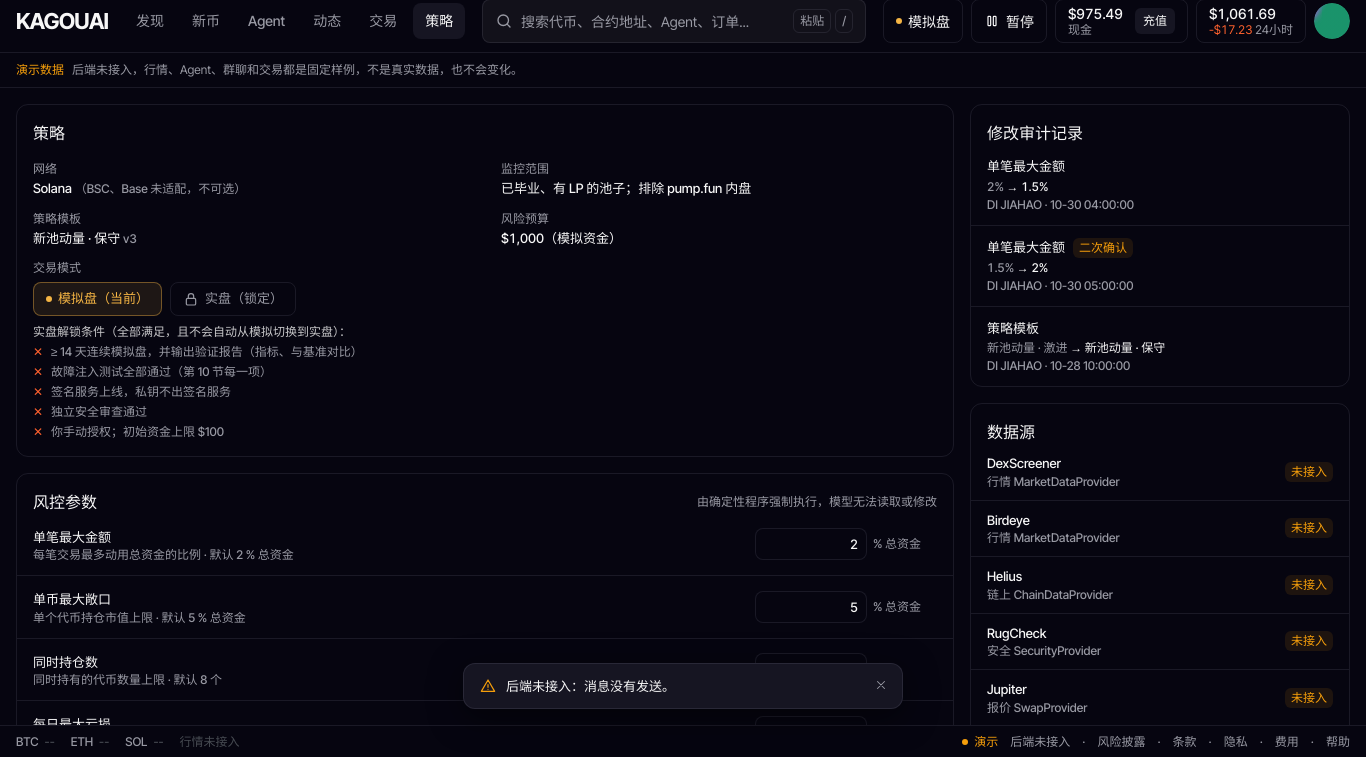
Test: 策略页风控修改 › 放宽需要二次确认，并且不假装保存成功
Replace the text in the number field labelled "单笔最大金额" with "3" at (811, 544), box left=755, top=528, right=867, bottom=560
(page scrolled)
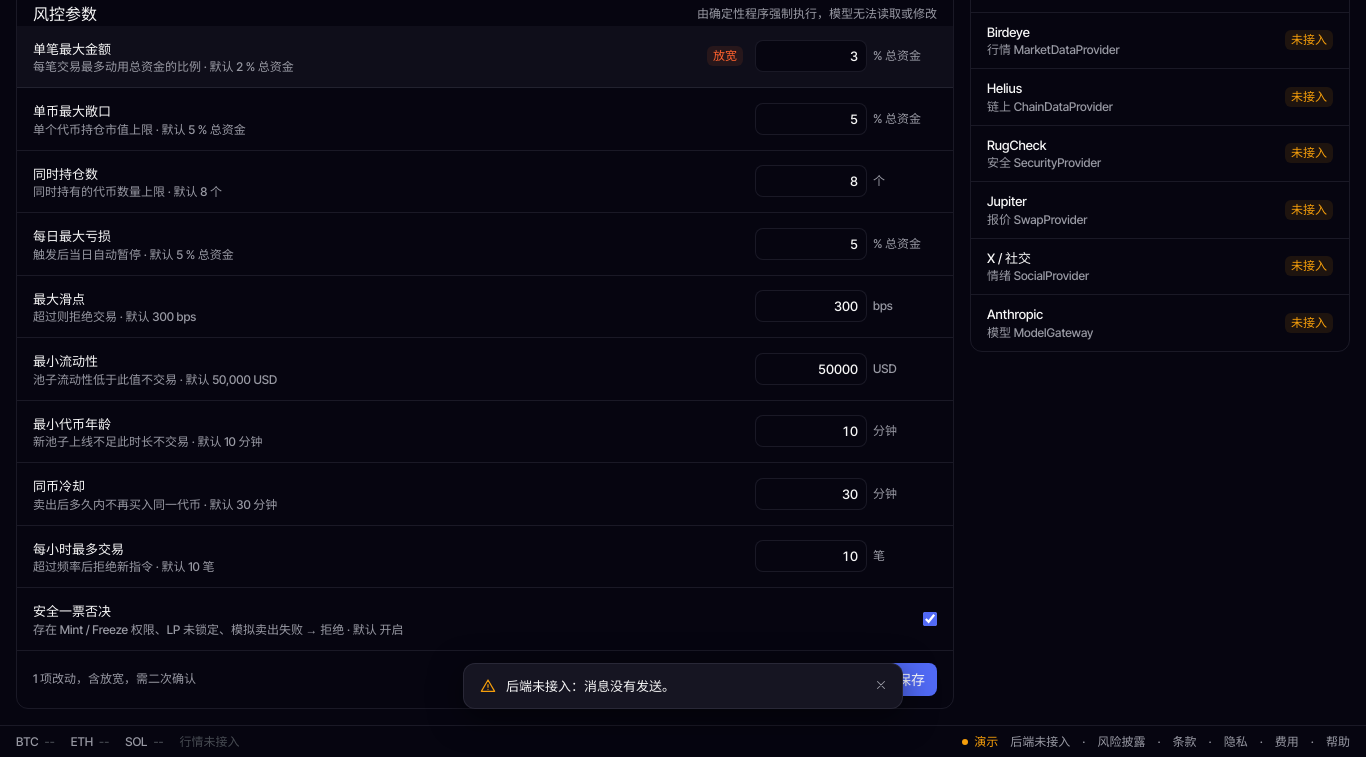
Result: the text "放宽" is shown at left=707, top=46, right=743, bottom=66
Click the button "保存".
click(911, 679)  # box left=885, top=662, right=937, bottom=696
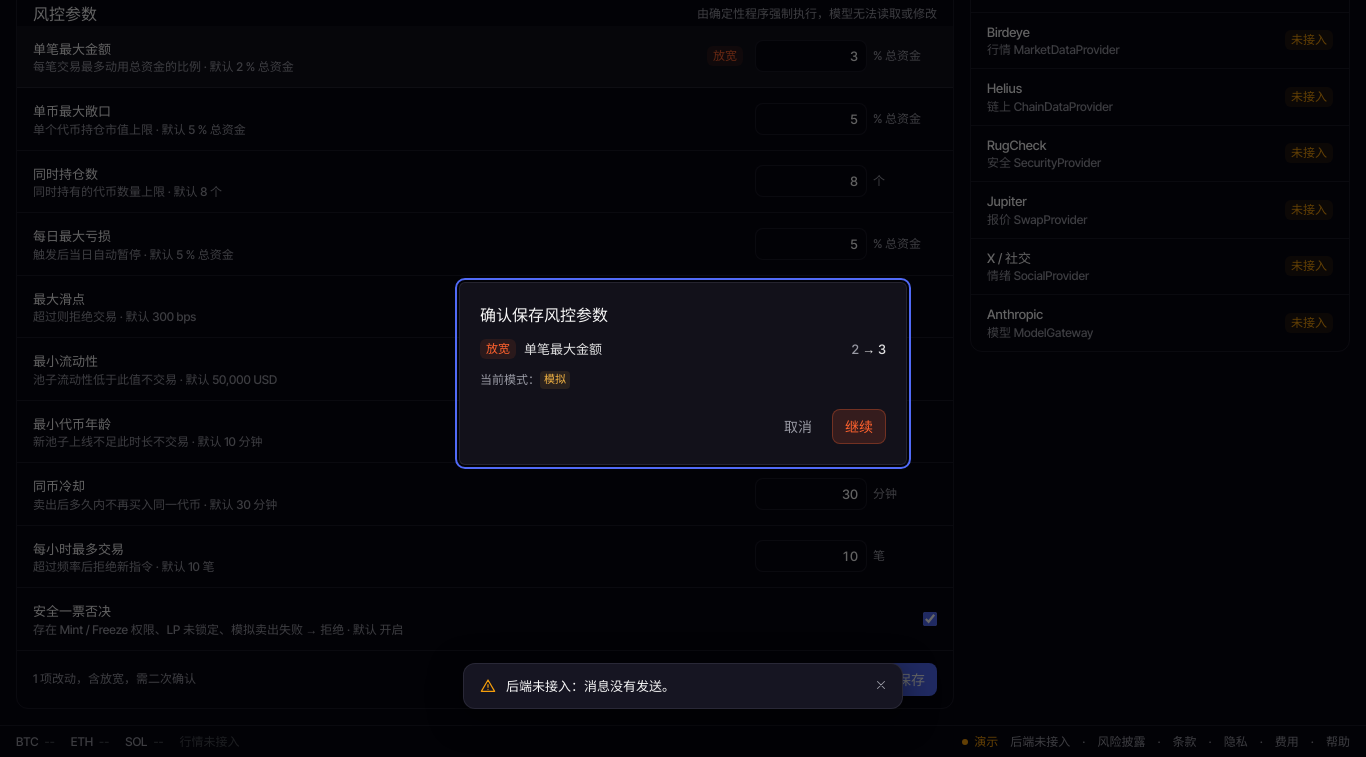
Click the button "继续".
click(859, 426)  # box left=832, top=408, right=886, bottom=444
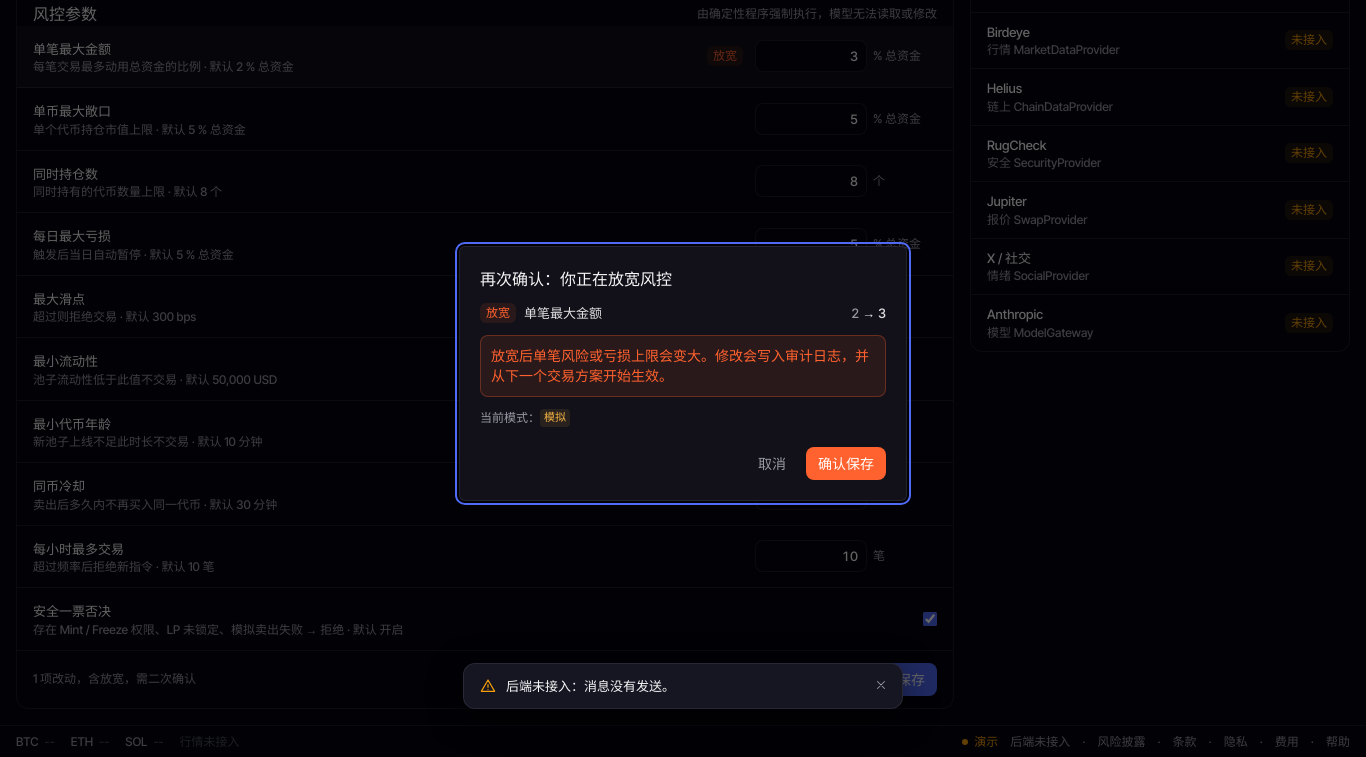
Result: the dialog "再次确认：你正在放宽风控" is shown at left=459, top=246, right=907, bottom=500
Click the button "确认保存".
click(846, 463)  # box left=806, top=446, right=886, bottom=480
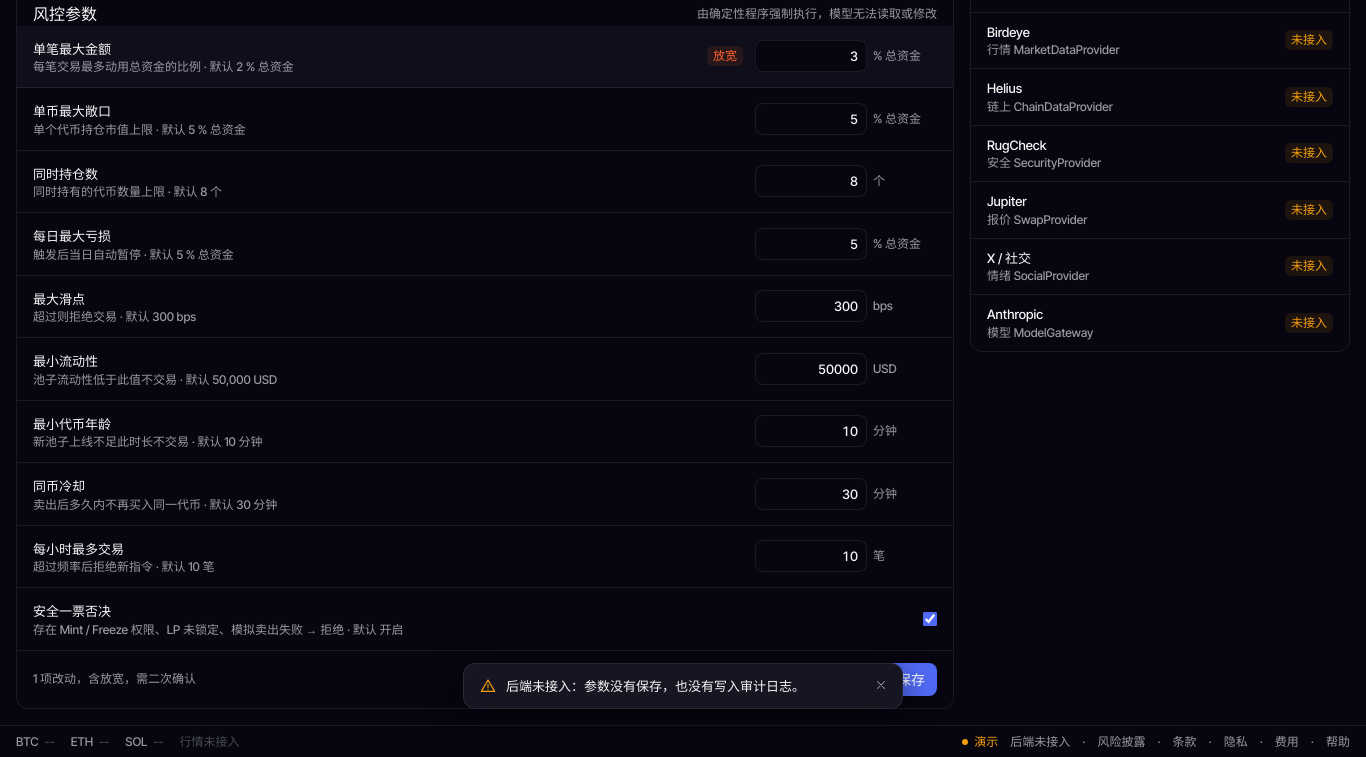
Result: the text "后端未接入：参数没有保存，也没有写入审计日志。" is shown at left=506, top=678, right=805, bottom=694
